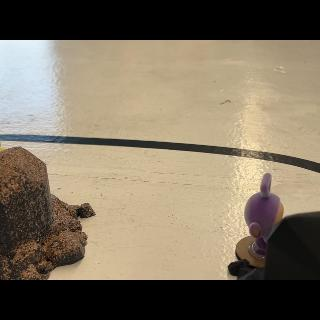teletubby: (244, 173, 284, 256)
